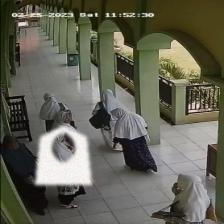Mukena: (34, 125, 92, 184)
